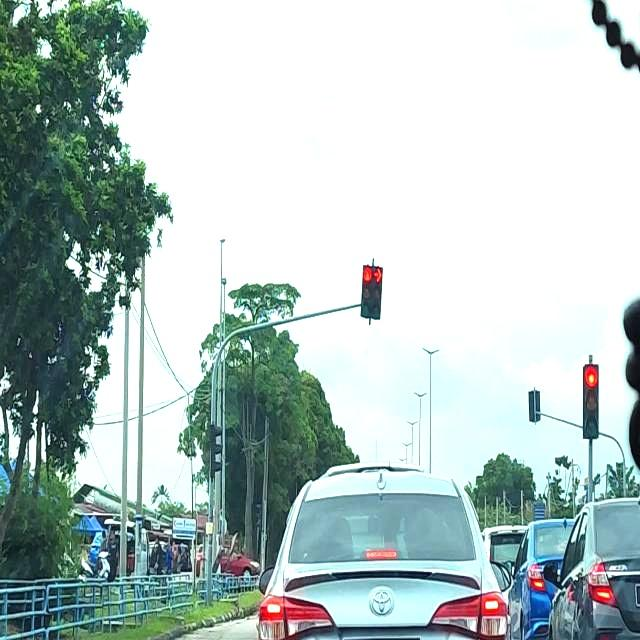Red: (582, 363, 598, 439), (360, 263, 373, 318), (372, 264, 383, 320)
